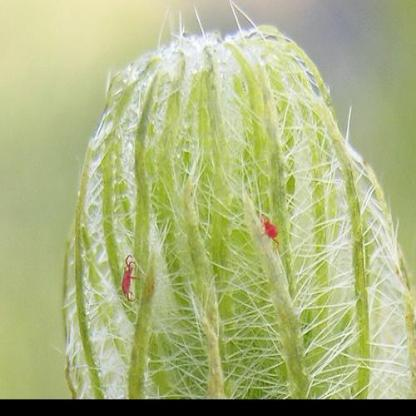aphid: (113, 252, 139, 304), (259, 208, 278, 249)
